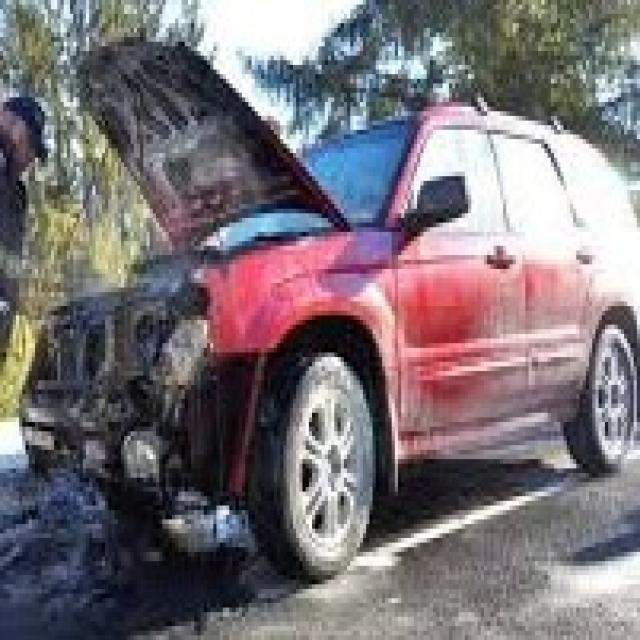severe: (32, 209, 306, 506)
